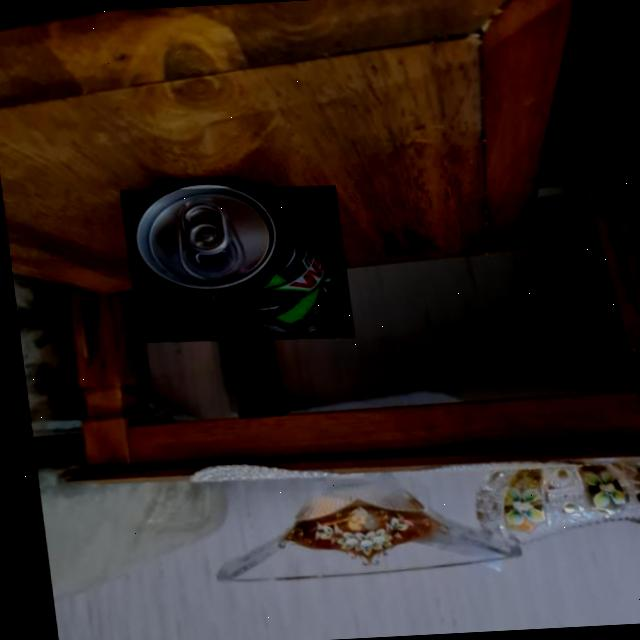trash: (128, 177, 306, 310)
